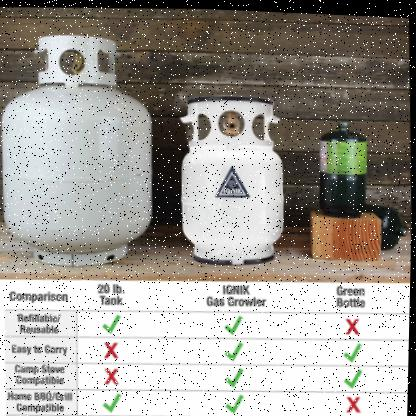gas-tank: (0, 21, 169, 277), (168, 85, 303, 274), (309, 109, 379, 220)
